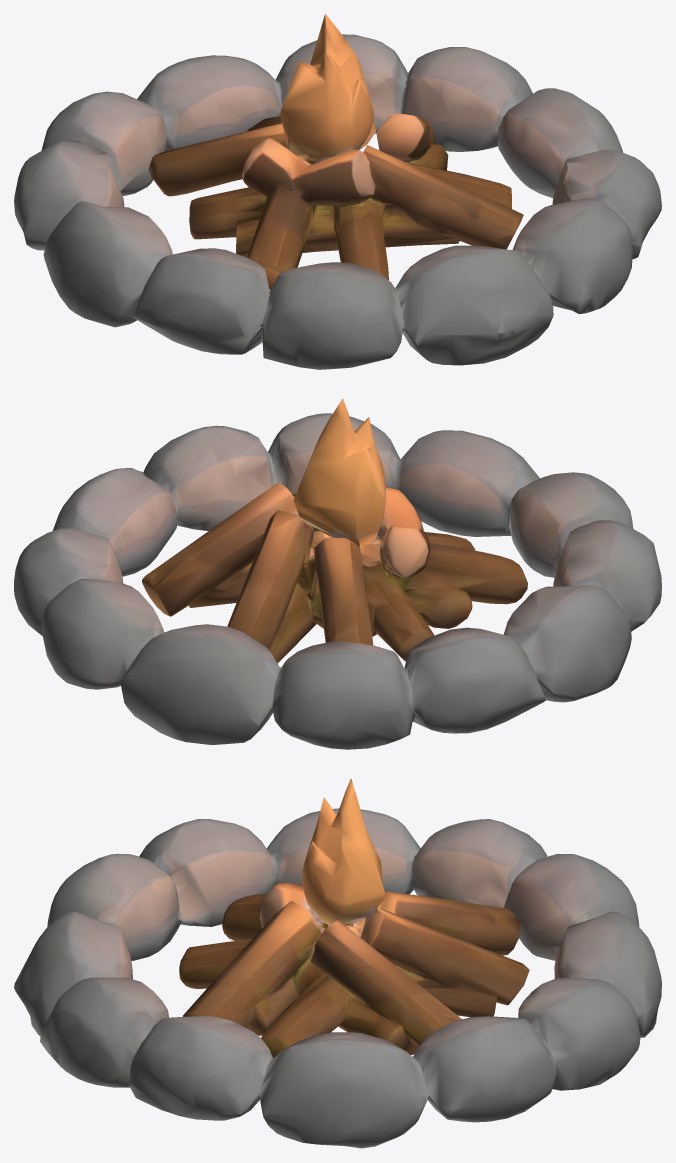
File: campfire.glb
3 renders of one model, top to bottom at view 1: azimuth 30°, elevation 25°; view 2: azimuth 150°, elevation 25°; view 3: azimuth 270°, elevation 25°, orthographic.
Visible parts, largest first — view 1: Mesh_0; view 2: Mesh_0; view 3: Mesh_0.
Boxes of the visible parts, x1,y1,x2,y2 form: Mesh_0: (14,14,661,369); Mesh_0: (14,398,661,749); Mesh_0: (14,778,661,1148).
Bounding box in the file's own units: 1.87 × 0.7781 × 1.91.
1 material, 1 textured.
